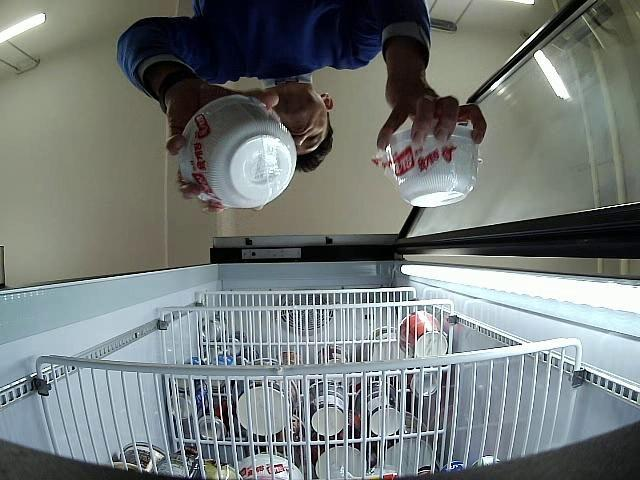09_yukGaeJang: (178, 95, 298, 204), (388, 128, 478, 207)
